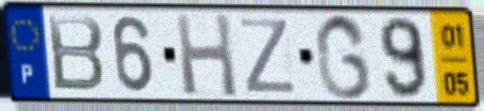6: (110, 14, 156, 95)
9: (375, 13, 431, 102)
B: (44, 13, 108, 95)
G: (313, 11, 375, 103)
H: (172, 11, 241, 101)
Z: (237, 16, 300, 96)
